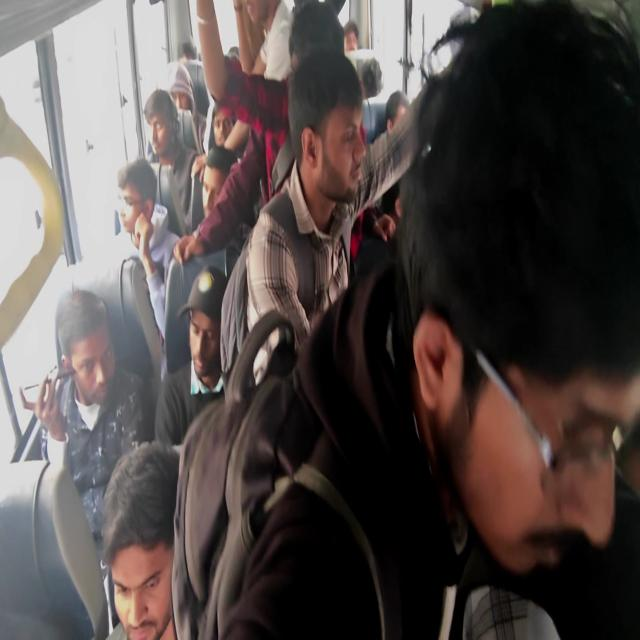person: (377, 137, 640, 640), (87, 467, 197, 636), (294, 61, 373, 212), (190, 269, 247, 413), (60, 298, 114, 404), (290, 2, 337, 95), (199, 151, 244, 243), (114, 156, 157, 233), (139, 85, 181, 160), (384, 86, 424, 153), (203, 95, 244, 152), (164, 63, 207, 116), (243, 0, 292, 39), (360, 54, 386, 106), (177, 31, 197, 74), (343, 15, 360, 60), (226, 38, 244, 80)
